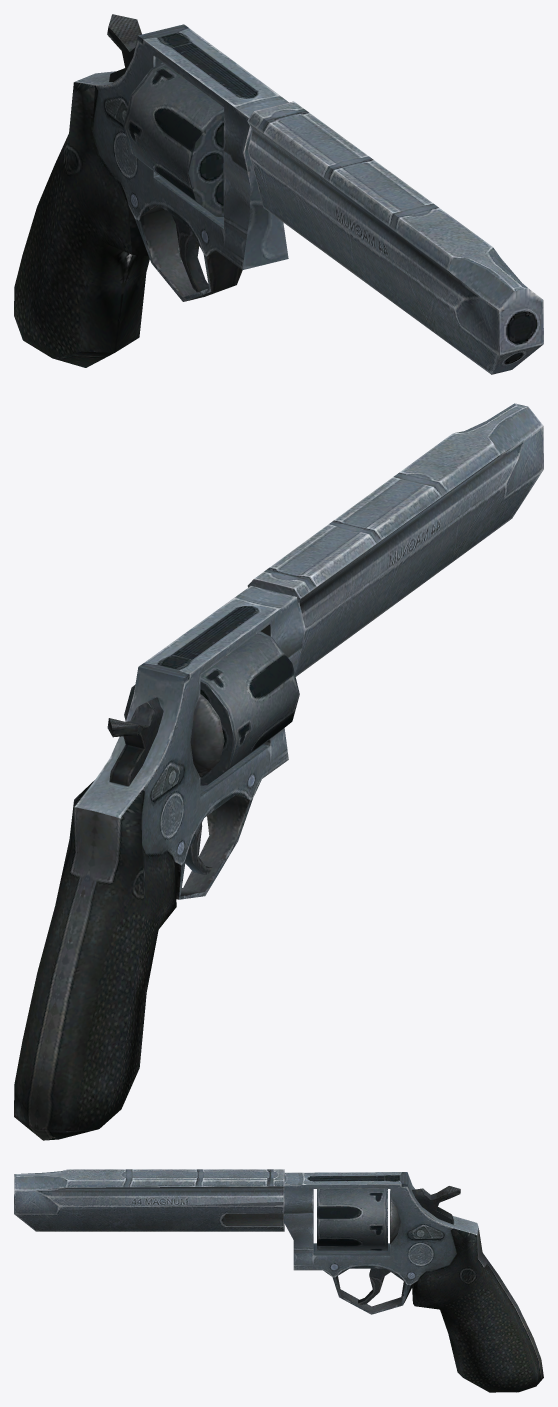
Rendered from Pistol_sq_02_lod1_LOD_(000258).glb.
3 views of the same model, one above another, from view 1: azimuth 30°, elevation 25°; view 2: azimuth 150°, elevation 25°; view 3: azimuth 270°, elevation 25° (orthographic). The views are drawn at different scales.
Visible parts, largest first — view 1: sq_02_lod1; view 2: sq_02_lod1; view 3: sq_02_lod1.
Boxes of the visible parts, x1,y1,x2,y2 form: sq_02_lod1: (14,14,543,374); sq_02_lod1: (14,403,543,1140); sq_02_lod1: (14,1169,543,1392).
Size of the model in its own units: 0.0574 by 0.1975 by 0.4356.
Materials: 1 (1 with a texture image).
